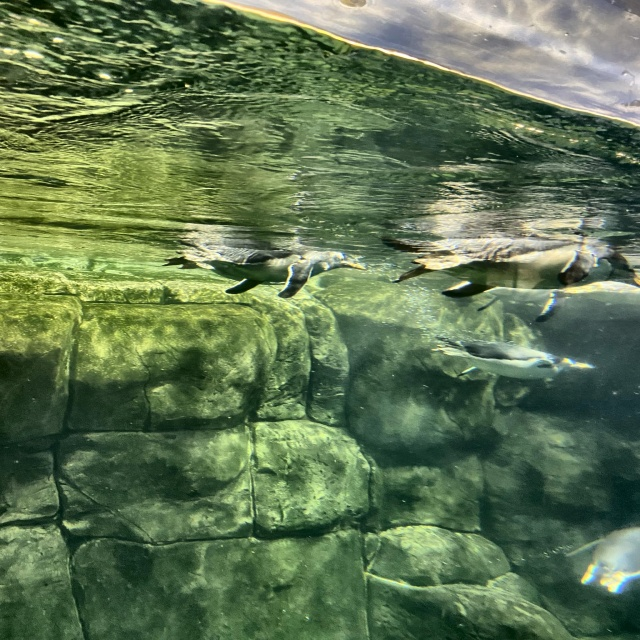penguin: (380, 237, 639, 300), (159, 245, 368, 297), (437, 331, 595, 388), (570, 528, 639, 594)
